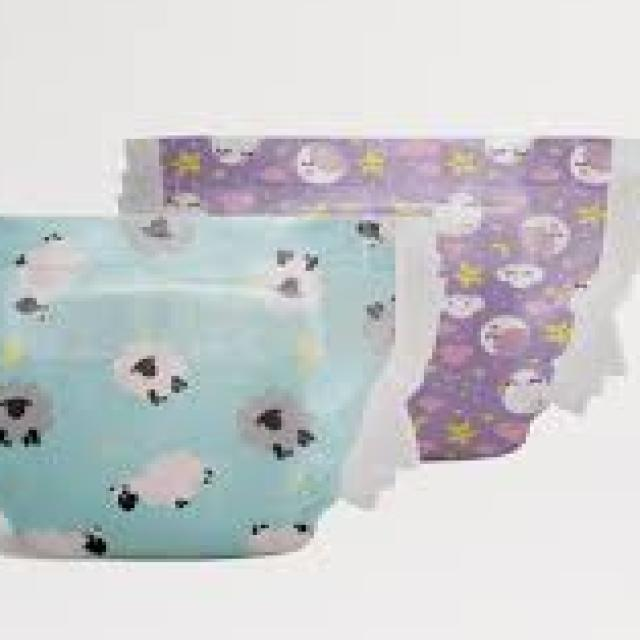organic: (4, 121, 613, 567)
